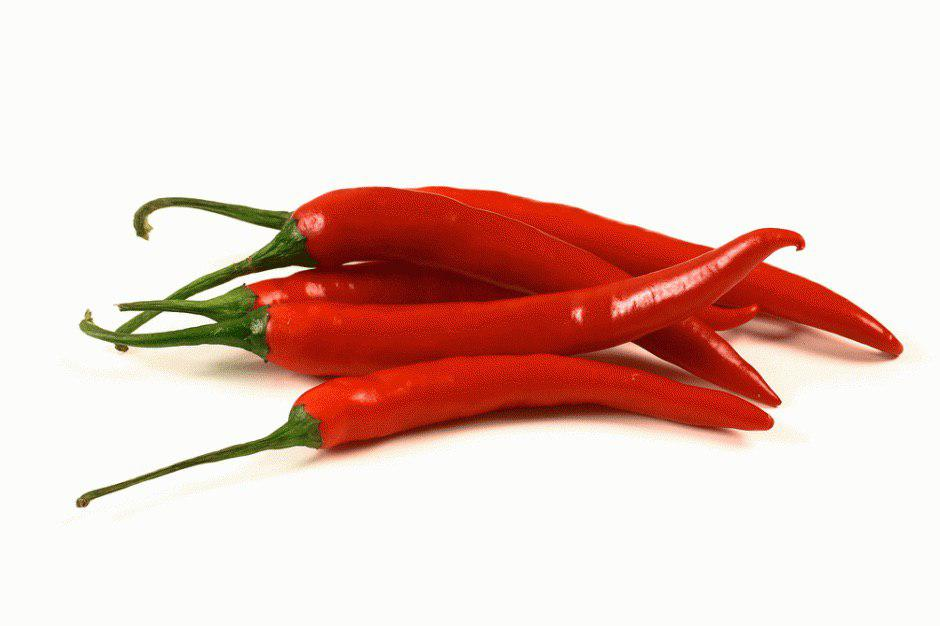lada merah: (288, 174, 778, 399), (251, 214, 827, 379), (238, 348, 787, 447)
